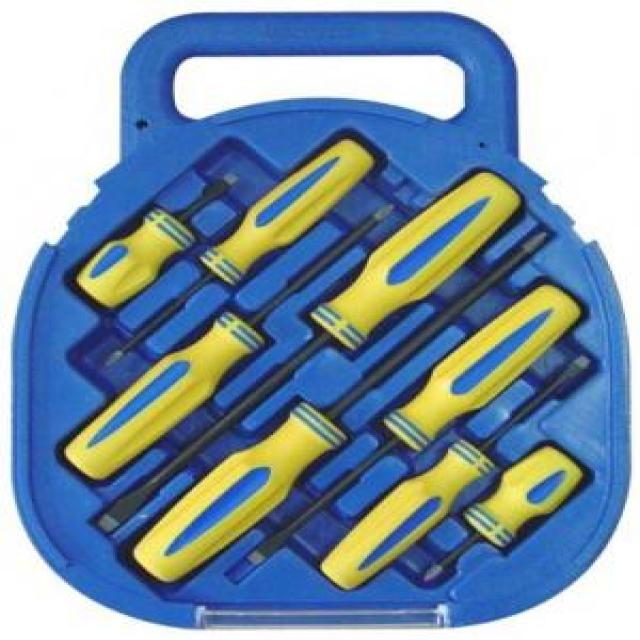screw driver: (410, 454, 570, 603)
